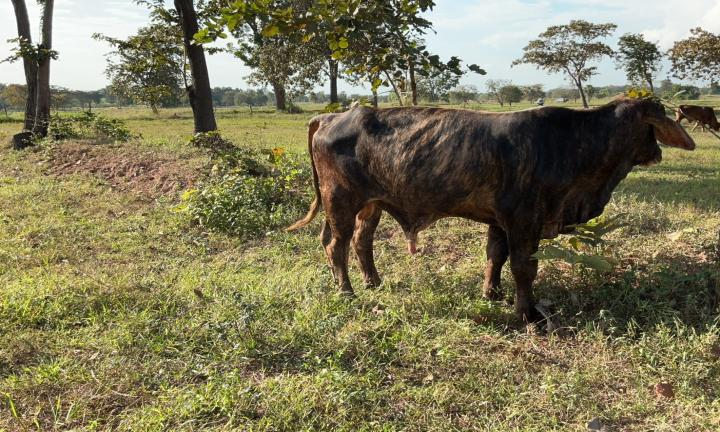Charolais: (289, 97, 695, 320)
